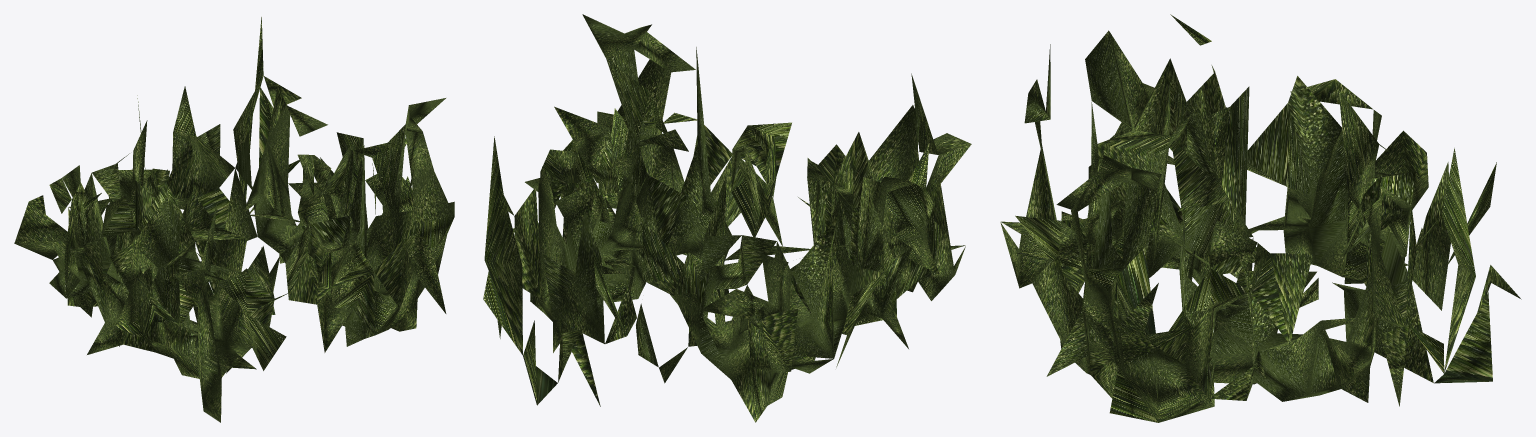
The model's file is reeds.glb.
3 views of the same model, side by side, from view 1: azimuth 30°, elevation 25°; view 2: azimuth 150°, elevation 25°; view 3: azimuth 270°, elevation 25° (orthographic). The views are drawn at different scales.
Size of the model in its own units: 2.3 by 1.4 by 2.44.
Materials: 1 (1 with a texture image).
